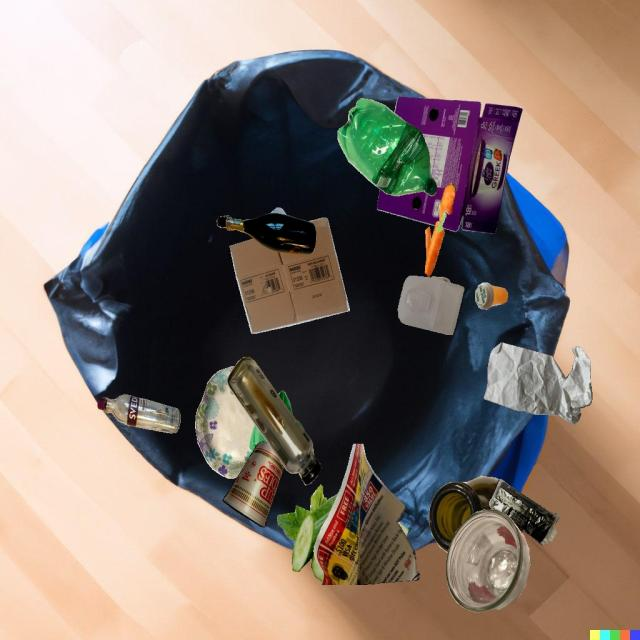biowaste: (277, 484, 338, 581), (425, 183, 456, 277)
cardboard: (377, 96, 523, 234), (229, 217, 350, 333), (195, 367, 255, 479)
glass: (227, 357, 321, 485), (446, 509, 530, 612), (429, 476, 499, 553), (217, 213, 317, 254), (98, 395, 180, 433), (431, 276, 451, 283)
paper: (313, 444, 420, 585), (484, 342, 592, 424)
plastic: (337, 98, 437, 196), (488, 479, 559, 545), (398, 275, 464, 335), (268, 401, 296, 443), (475, 282, 508, 309), (249, 424, 268, 452), (270, 208, 287, 215)
trash: (223, 442, 284, 527)
